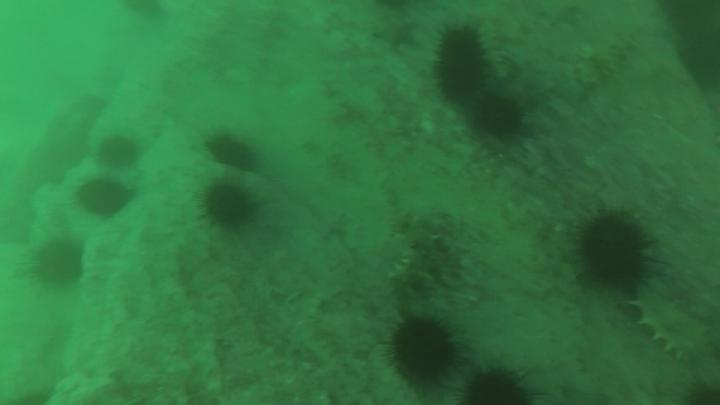echinus: (583, 216, 648, 289), (392, 318, 456, 380), (435, 28, 486, 94), (459, 373, 529, 404), (204, 185, 251, 227), (35, 245, 82, 284), (476, 97, 522, 136), (80, 181, 130, 215), (206, 139, 255, 167), (96, 140, 138, 171)
holothurian: (631, 292, 716, 363), (388, 208, 442, 287), (480, 16, 515, 75)
